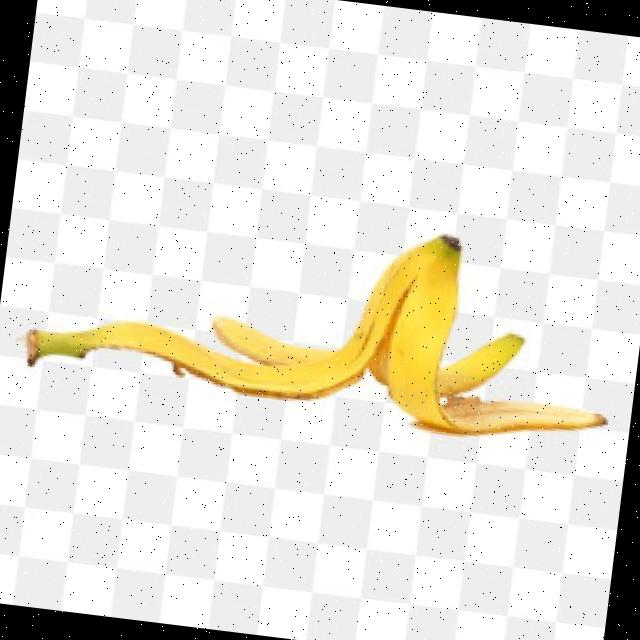banana-peel: (15, 182, 628, 450)
